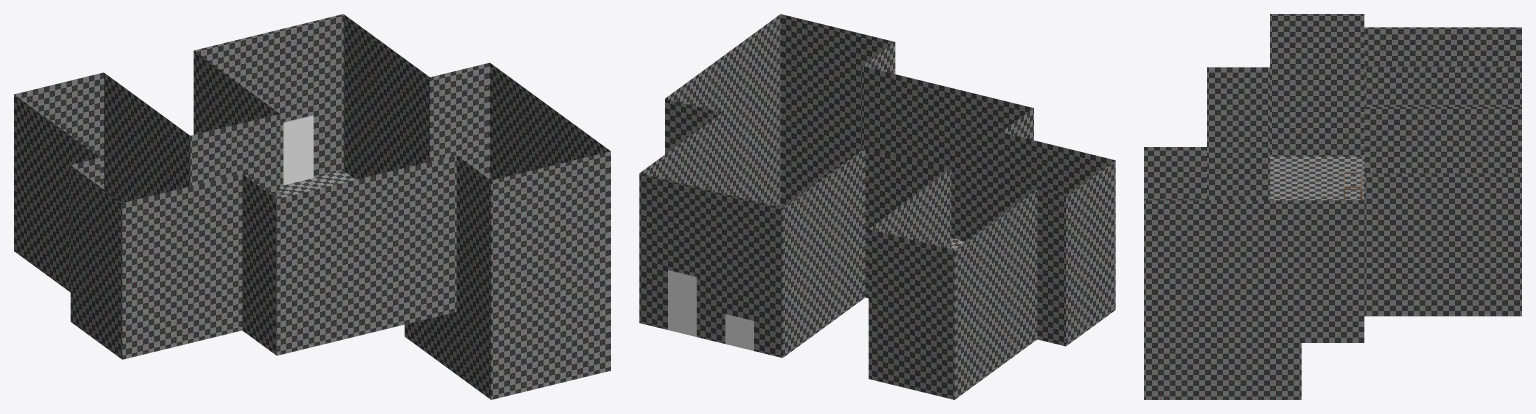
File: room_hall2_03.glb
3 renders of one model, left to right at view 1: azimuth 30°, elevation 25°; view 2: azimuth 150°, elevation 25°; view 3: azimuth 270°, elevation 25°, orthographic. The views are drawn at different scales.
Parts seen in each view (by area): view 1: Plane; view 2: Plane; view 3: Plane.
Part boxes in pixels (box(x1,y1,x2,y2)): Plane: box(14, 14, 610, 399); Plane: box(639, 14, 1115, 399); Plane: box(1144, 14, 1521, 399).
Bounding box in the file's own units: 14 × 7 × 12.
Materials: 2 (2 with a texture image).
